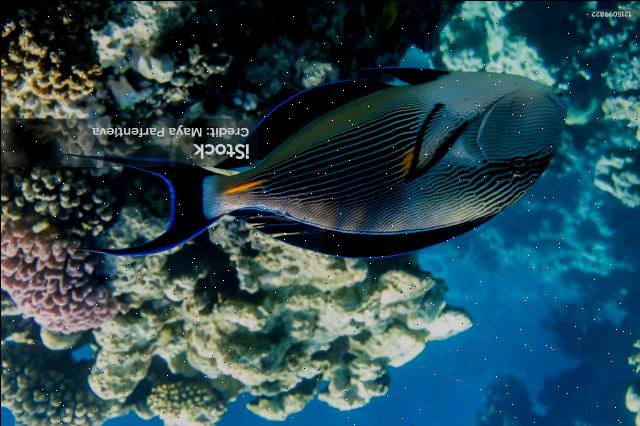Mulut: (530, 70, 586, 132)
Sirip Anal: (205, 78, 392, 176)
Sirip Dada: (391, 85, 477, 191)
Sirip Ekor: (57, 133, 209, 271)
Sirip Perut: (346, 58, 452, 98)
Sirip Punggung: (234, 202, 498, 264)
